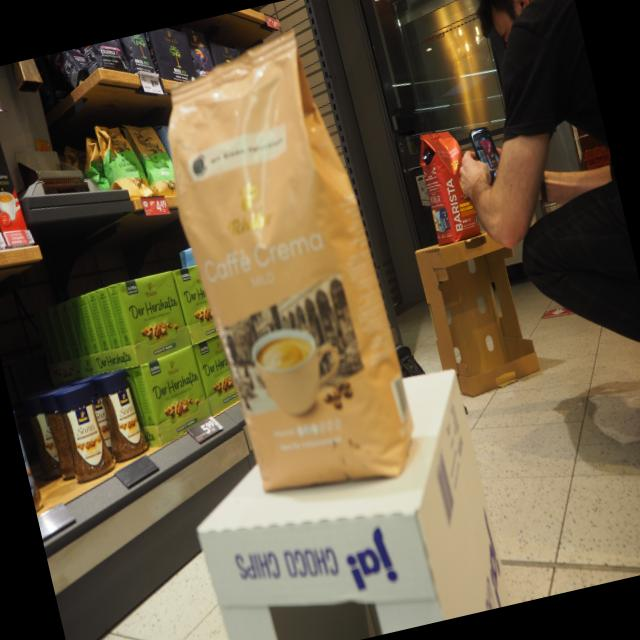CC Mild: (138, 15, 431, 518)
